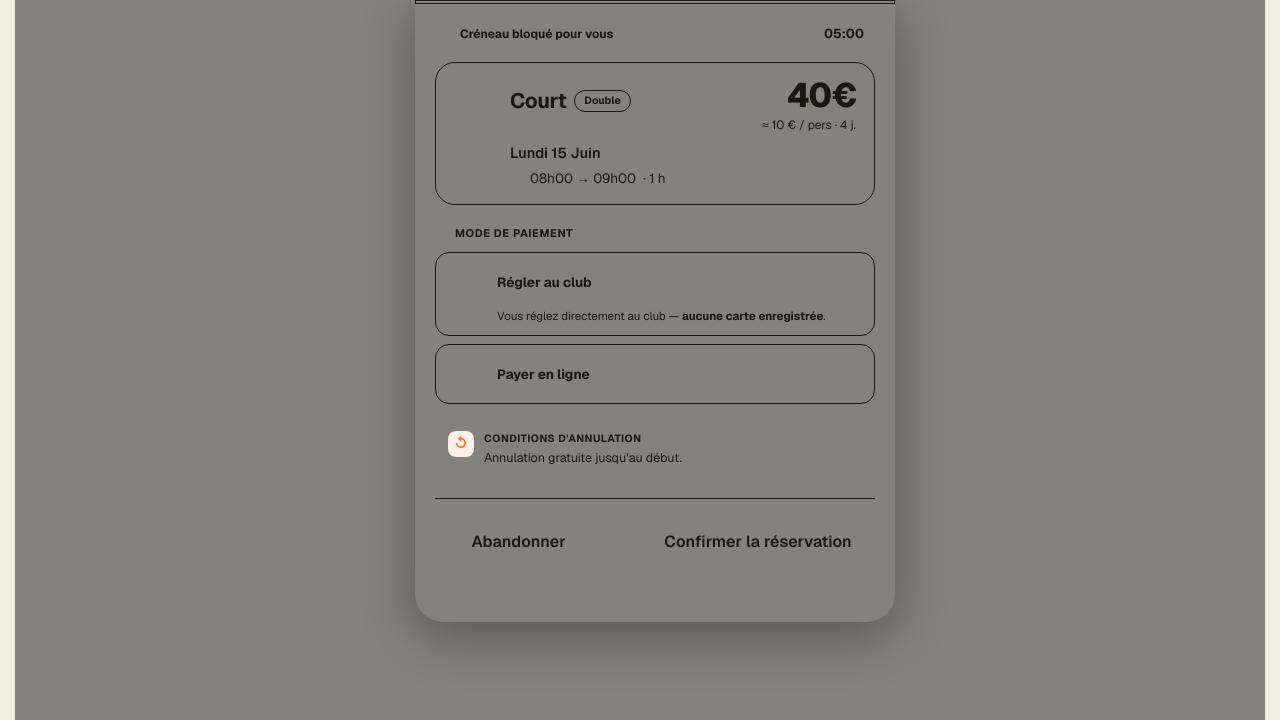
BookingModal — gardes paiement renvoyées par le backend (jamais de code brut) › autre garde paiement (CGV_NOT_ACCEPTED) → message FR lisible, jamais le code brut
What coordinates should you click on to do the following:
click the button "Confirmer la réservation"
I would click on:
 (744, 542)
Its box is [613, 515, 875, 569].
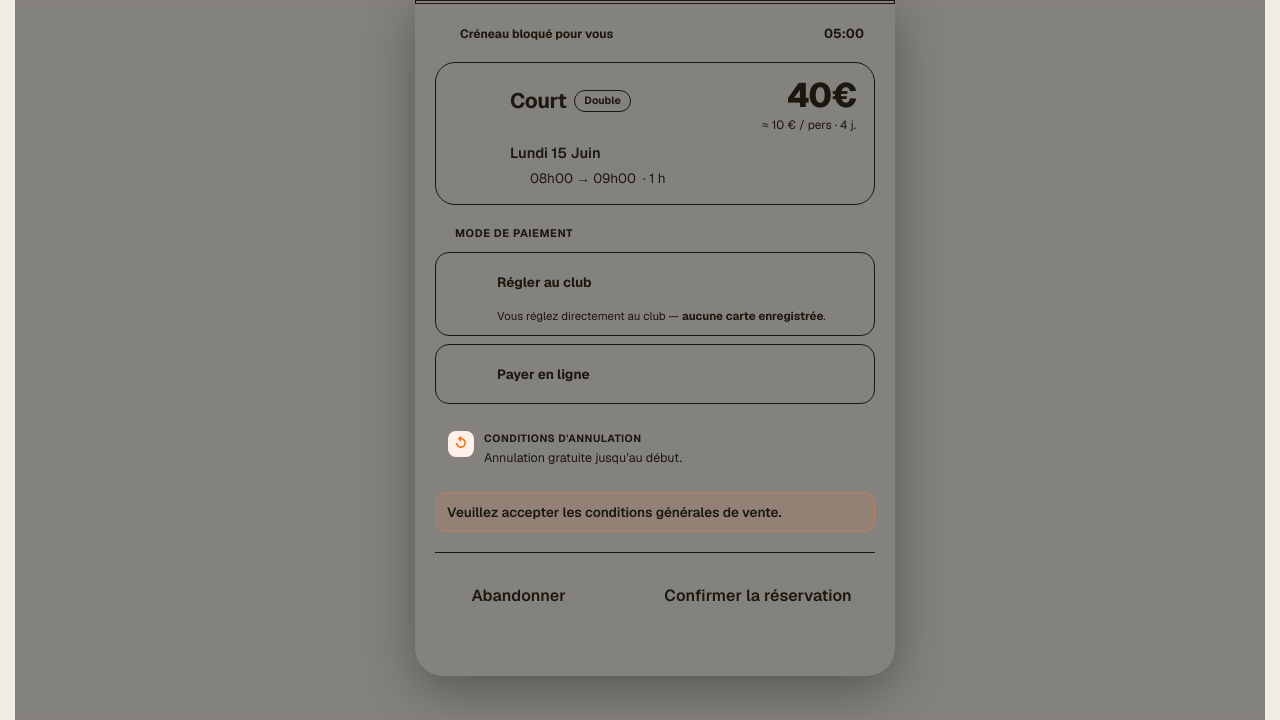
Now the text "Veuillez accepter les conditions générales de vente." is shown, box [435, 492, 875, 532]
